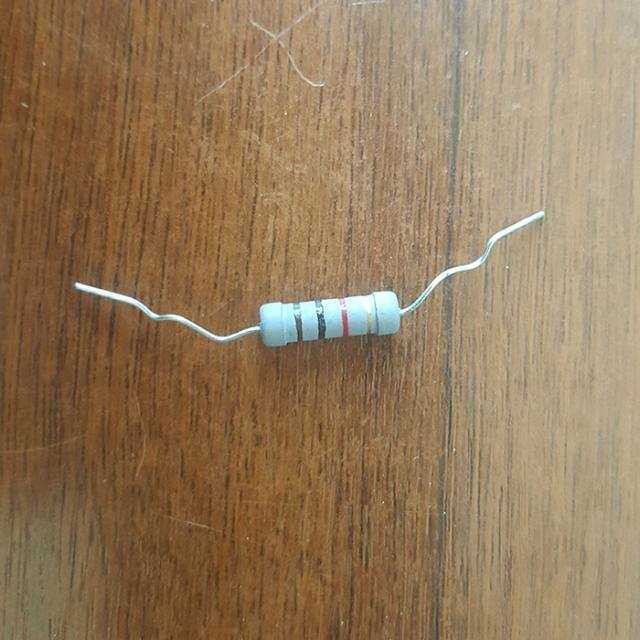black: (316, 303, 325, 336)
brown: (295, 305, 302, 338)
gold: (364, 298, 372, 331)
red: (340, 300, 347, 332)
resistor: (253, 282, 409, 352)
